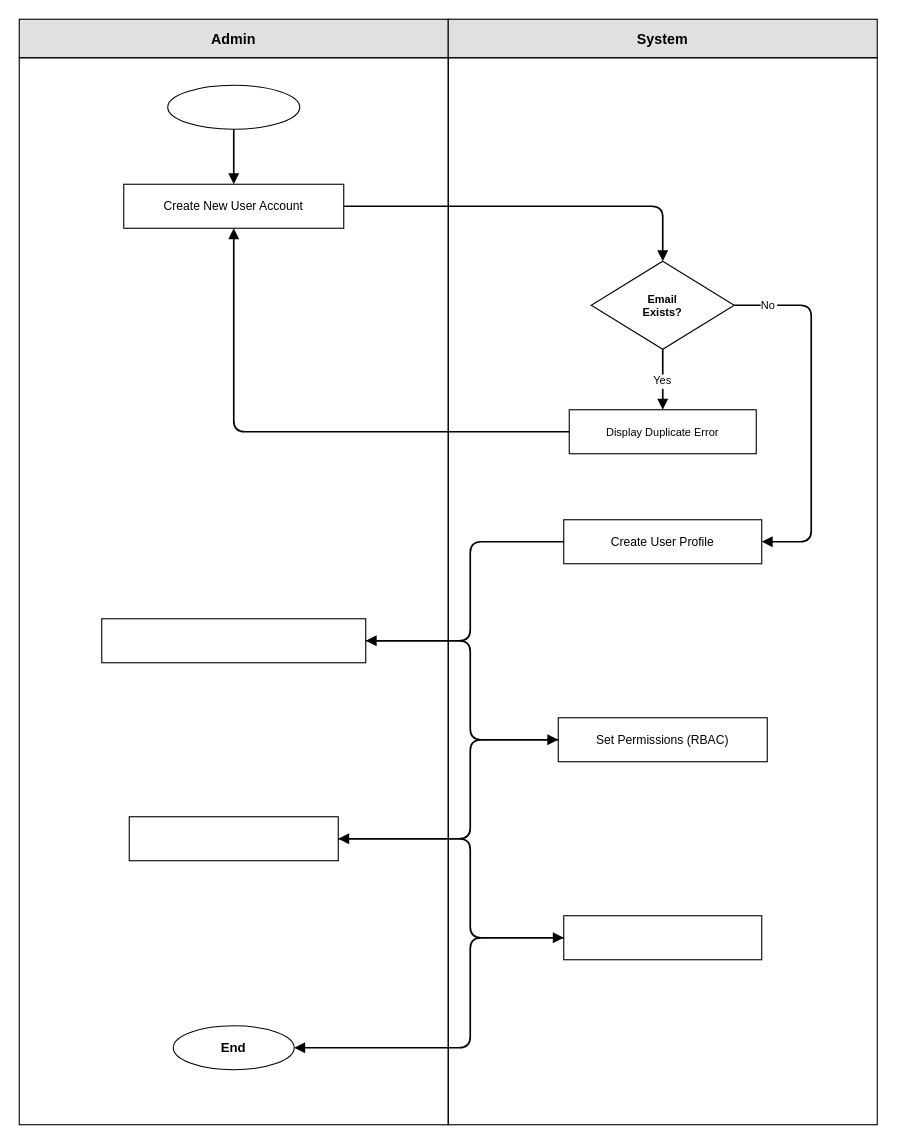
Some shapes in this 897 by 1144 pixel diagram are drawn without their labels. The centre of each missing label's shape, as x and y in pixels:
Assign Role (Staff/Manager/Driver): the point at 233,640
Assign User to Facility: the point at 233,838
Start: the point at 233,106
Update Access Control: the point at 662,937
